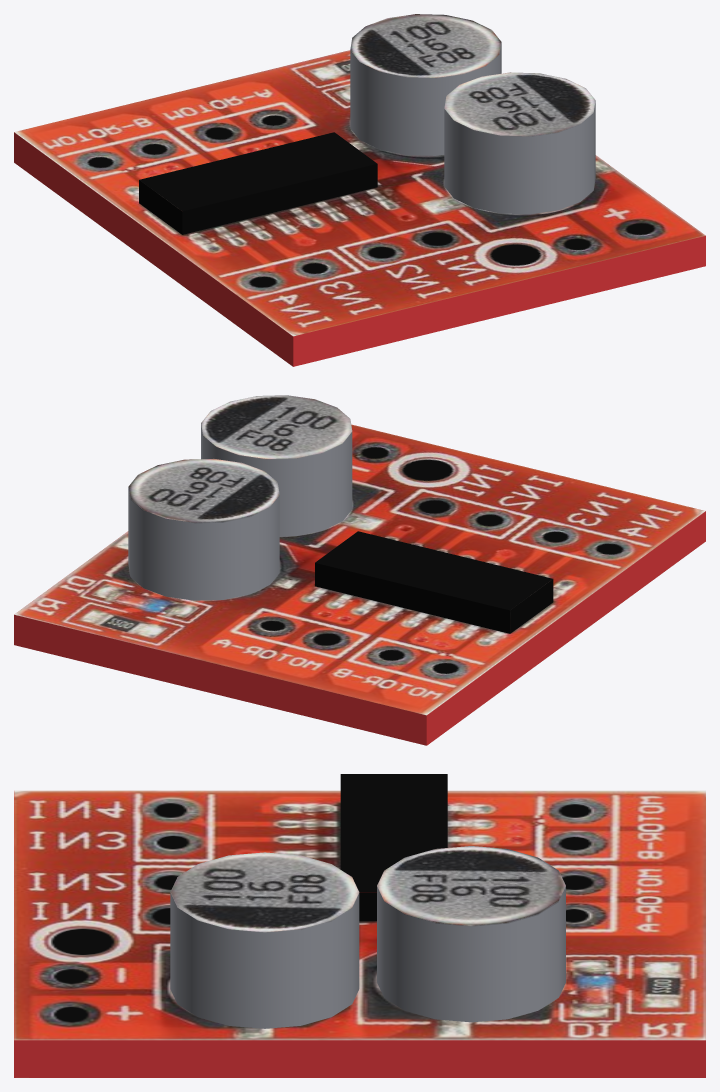
Rendered from driver.fbx.
The picture shows the model from 3 angles, top to bottom: view 1: azimuth 30°, elevation 25°; view 2: azimuth 150°, elevation 25°; view 3: azimuth 270°, elevation 25°; orthographic projection. The views are drawn at different scales.
Parts seen in each view (by area): view 1: driver.001; view 2: driver.001; view 3: driver.001.
Boxes of the visible parts, x1,y1,x2,y2 form: driver.001: (14,14,705,366); driver.001: (14,395,705,745); driver.001: (14,774,705,1077).
Size of the model in its own units: 2.13 by 0.5338 by 2.49.
Materials: 1 (1 with a texture image).
